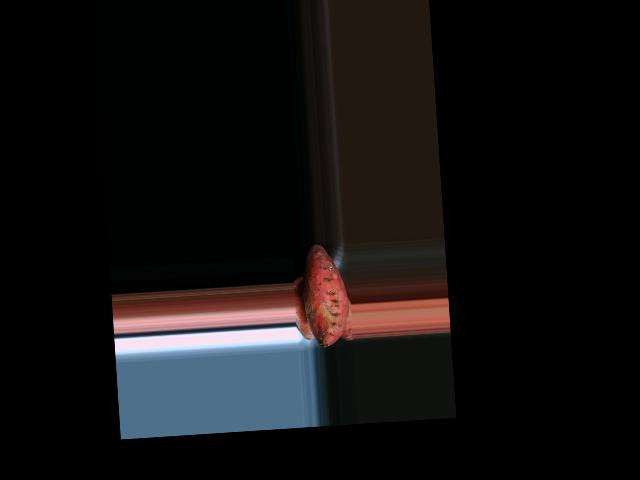sweet_potato: (304, 243, 347, 348)
